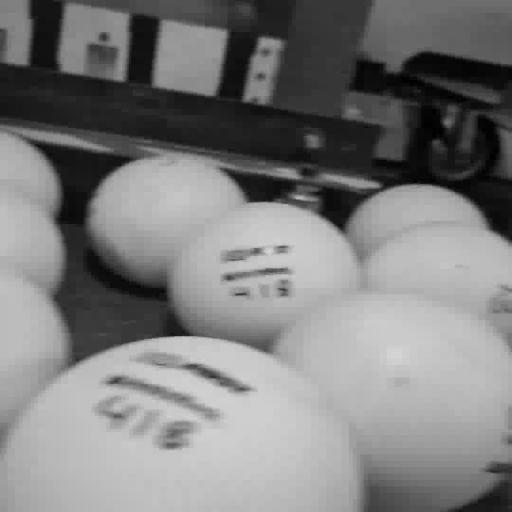fuel: (0, 336, 367, 511), (274, 292, 511, 511), (167, 202, 360, 347), (86, 155, 246, 287), (362, 223, 511, 334), (0, 270, 70, 434), (345, 184, 489, 260), (0, 188, 65, 295), (0, 130, 62, 217)
